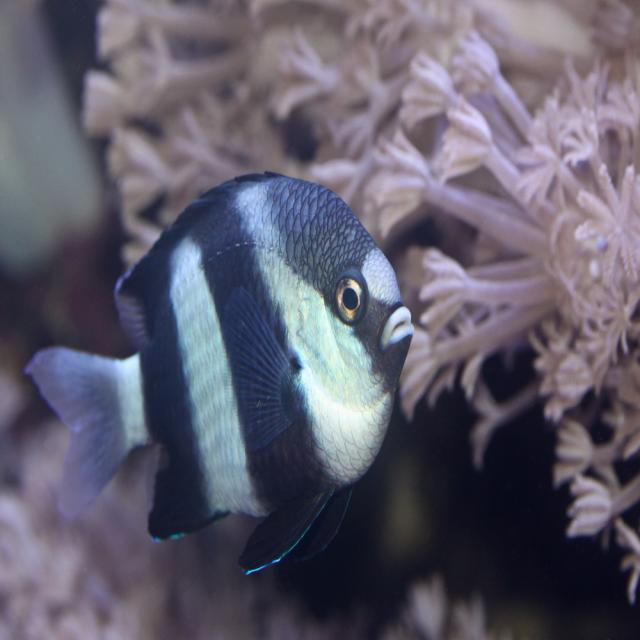ThreeStripedDamselfish: (25, 162, 417, 585)
